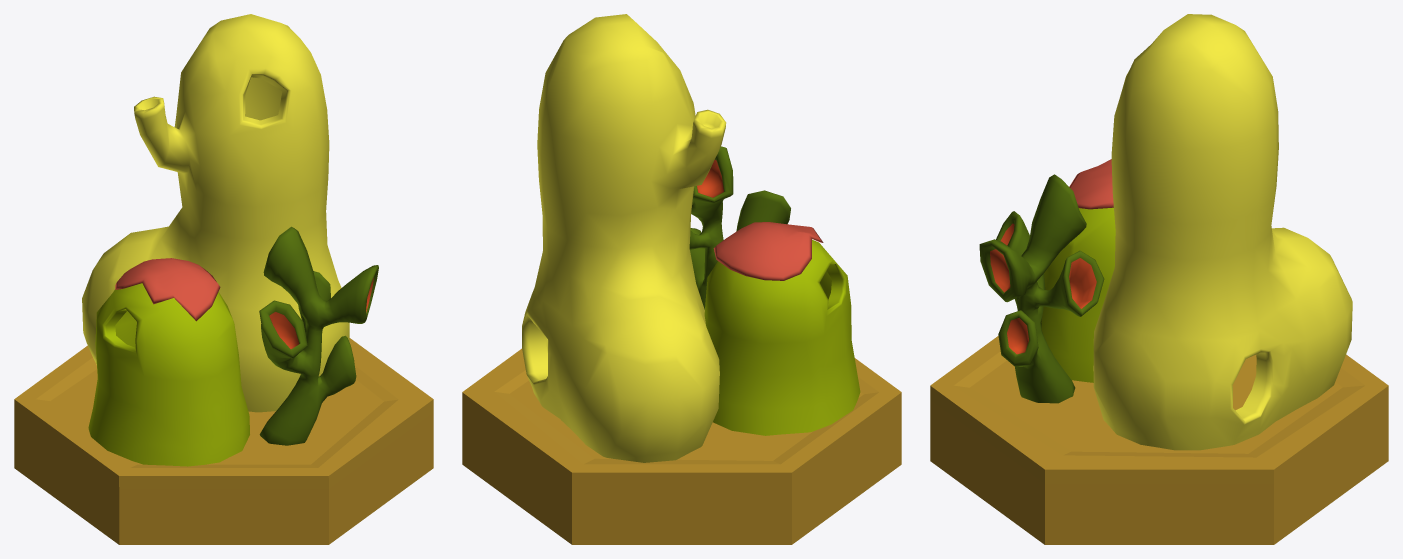
Rendered from House2.fbx.
3 views of the same model, side by side, from view 1: azimuth 30°, elevation 25°; view 2: azimuth 150°, elevation 25°; view 3: azimuth 270°, elevation 25° (orthographic). The views are drawn at different scales.
Visible parts, largest first — view 1: Cylinder.039; view 2: Cylinder.039; view 3: Cylinder.039.
Part boxes in pixels (<box>): Cylinder.039: <box>14,14,433,544</box>; Cylinder.039: <box>462,14,901,544</box>; Cylinder.039: <box>930,14,1388,544</box>.
Size of the model in its own units: 173 by 223 by 200.
1 material, 1 textured.
